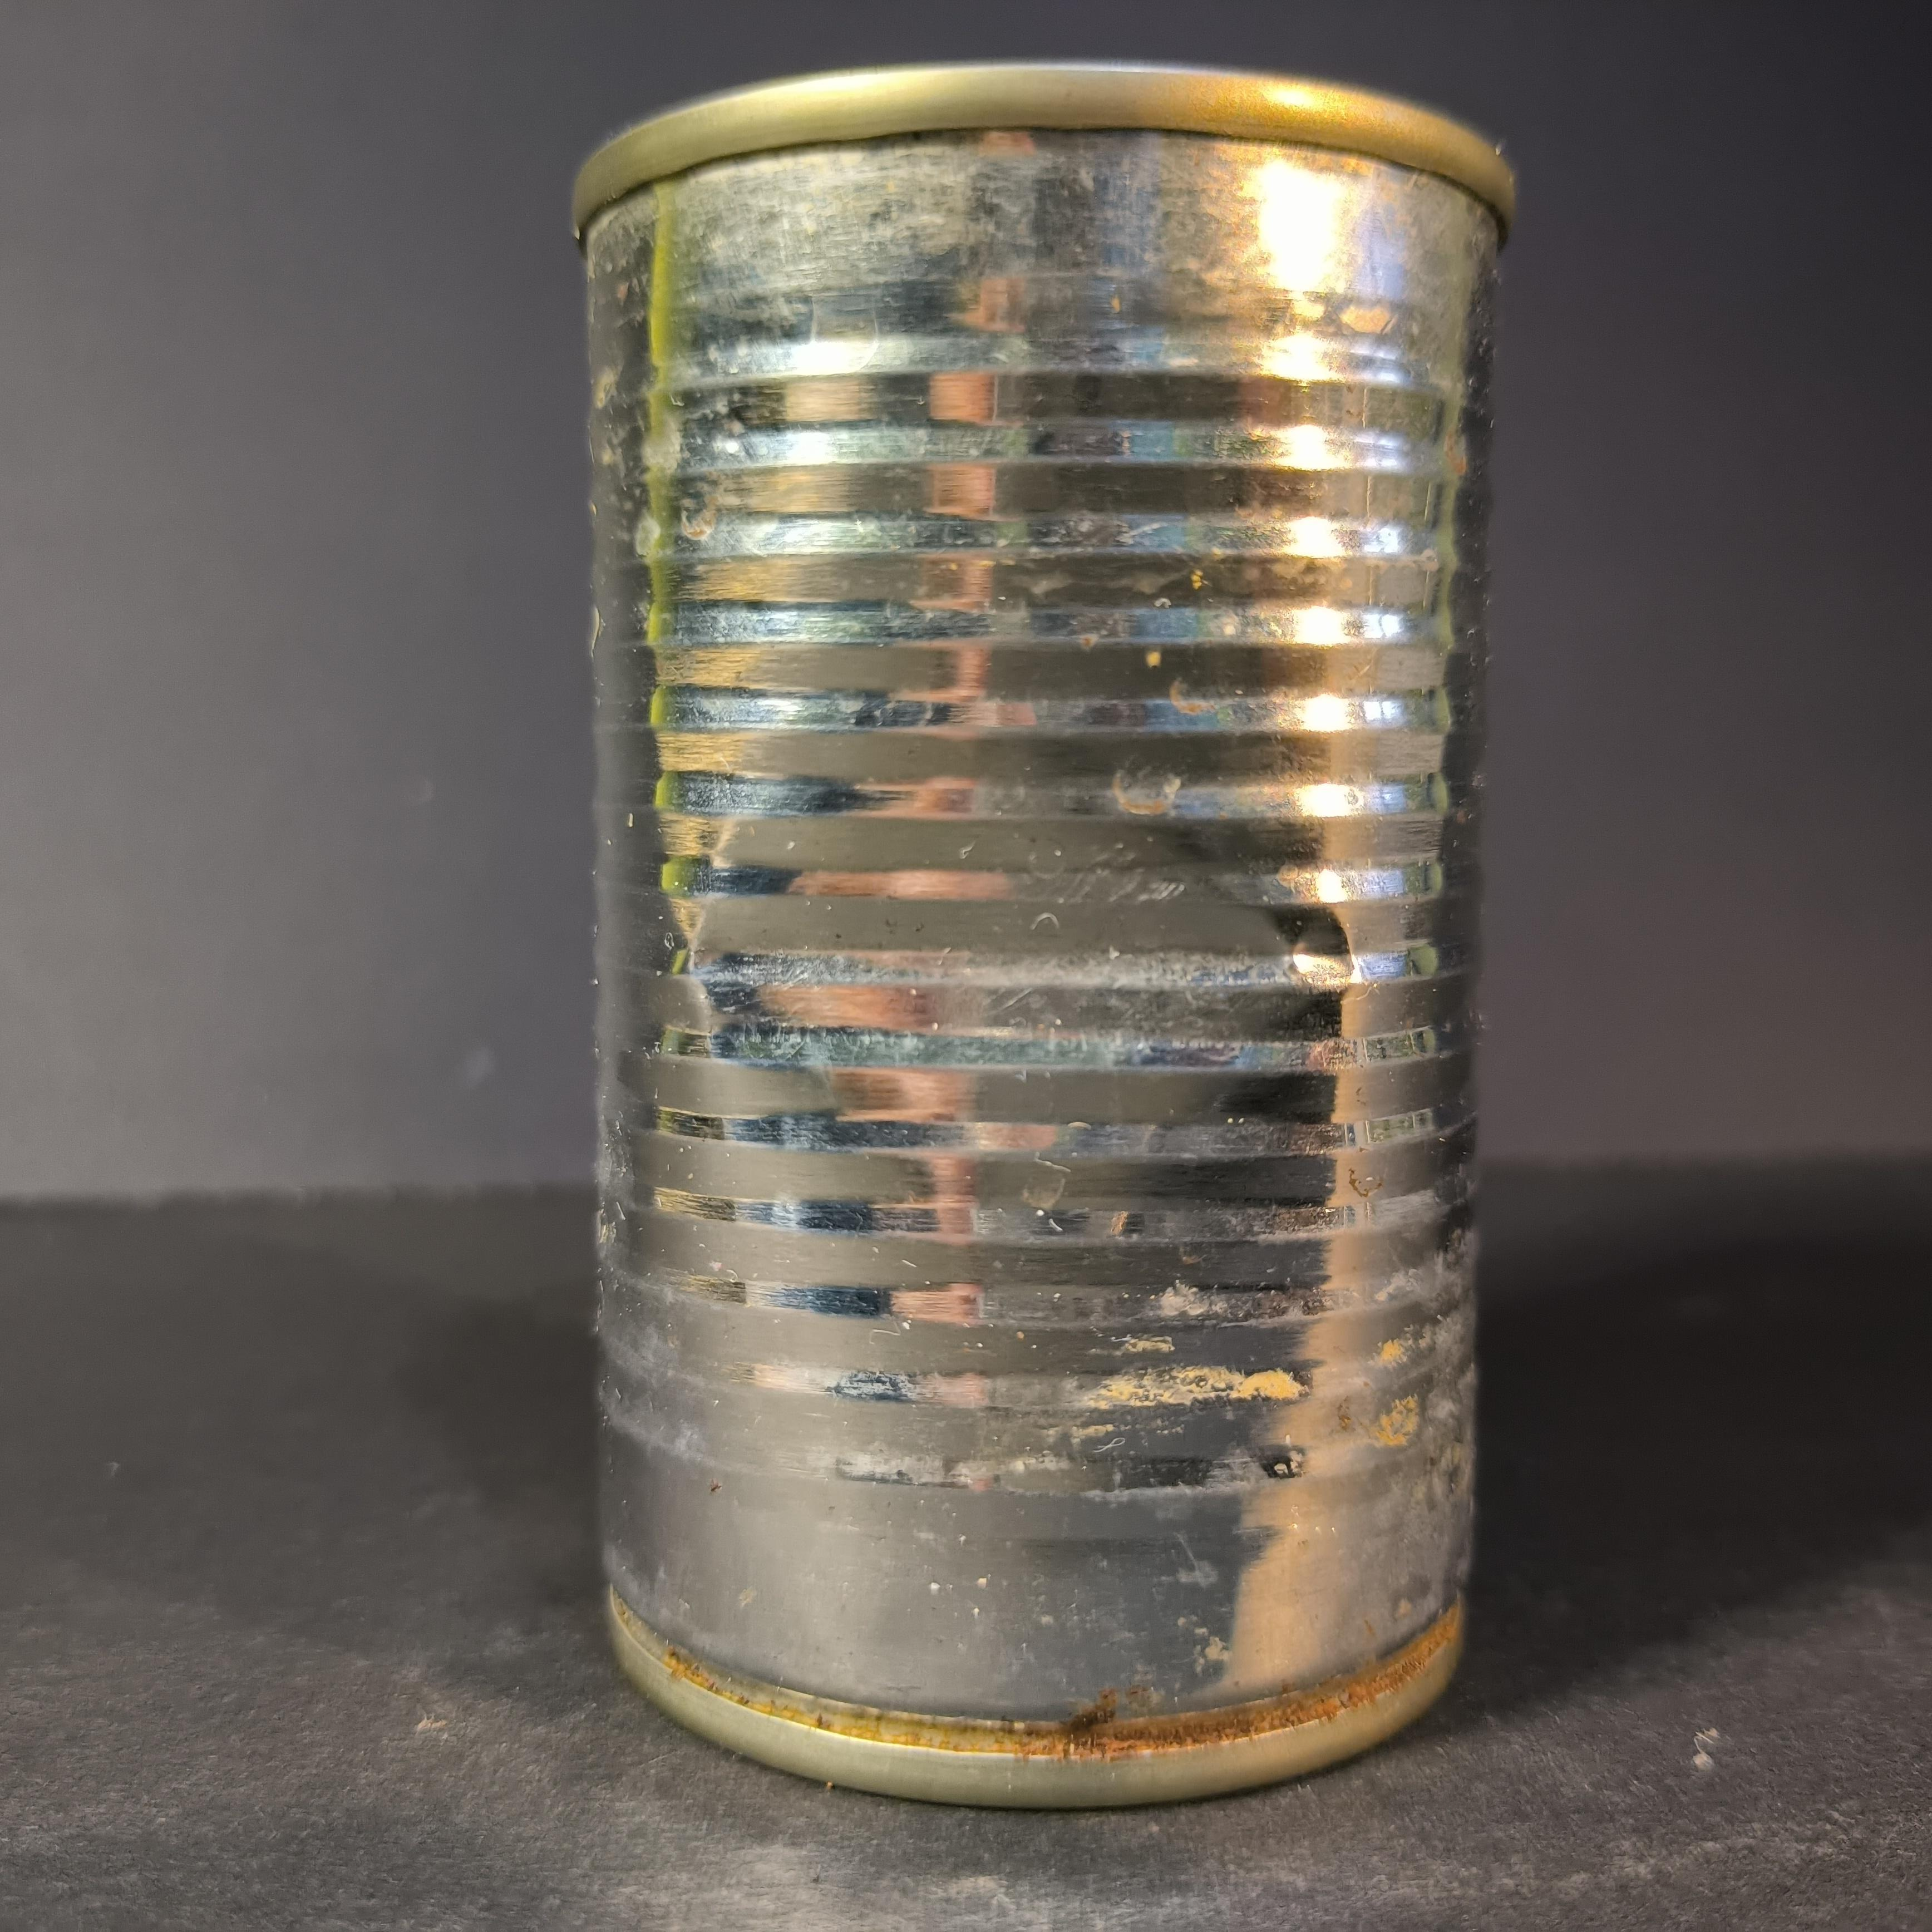Dented: (545, 39, 1572, 1817)
